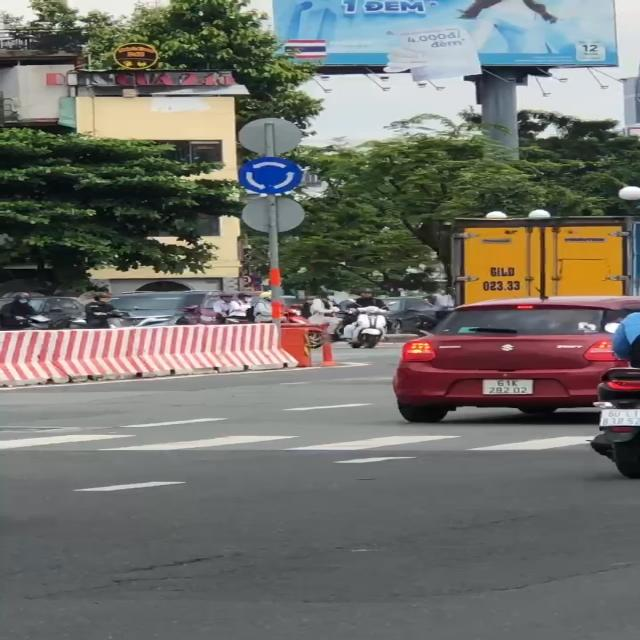Bien bao noi giao nhau chay theo vong xuyen: (236, 155, 298, 195)
